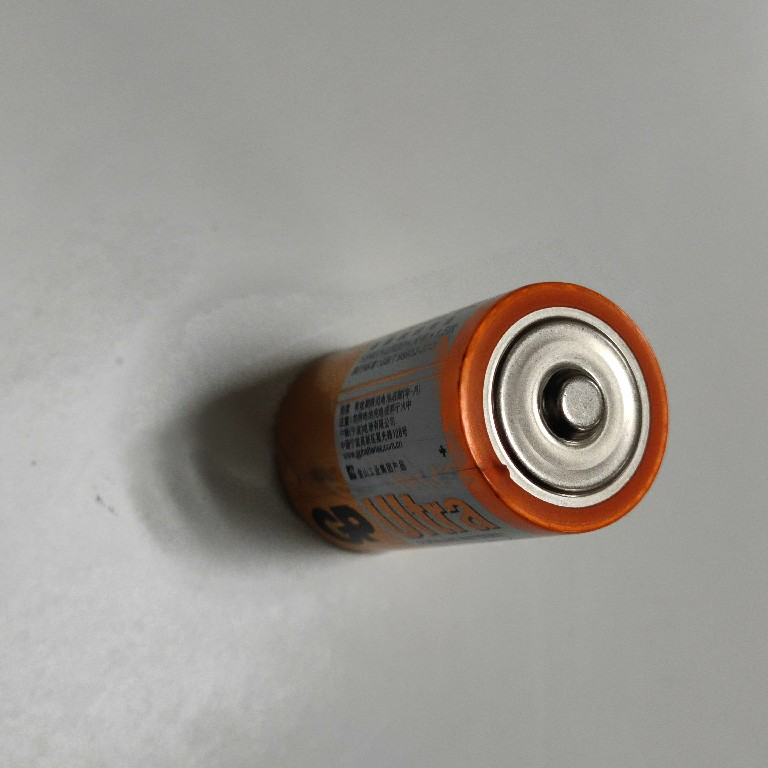charge: (269, 277, 675, 563)
